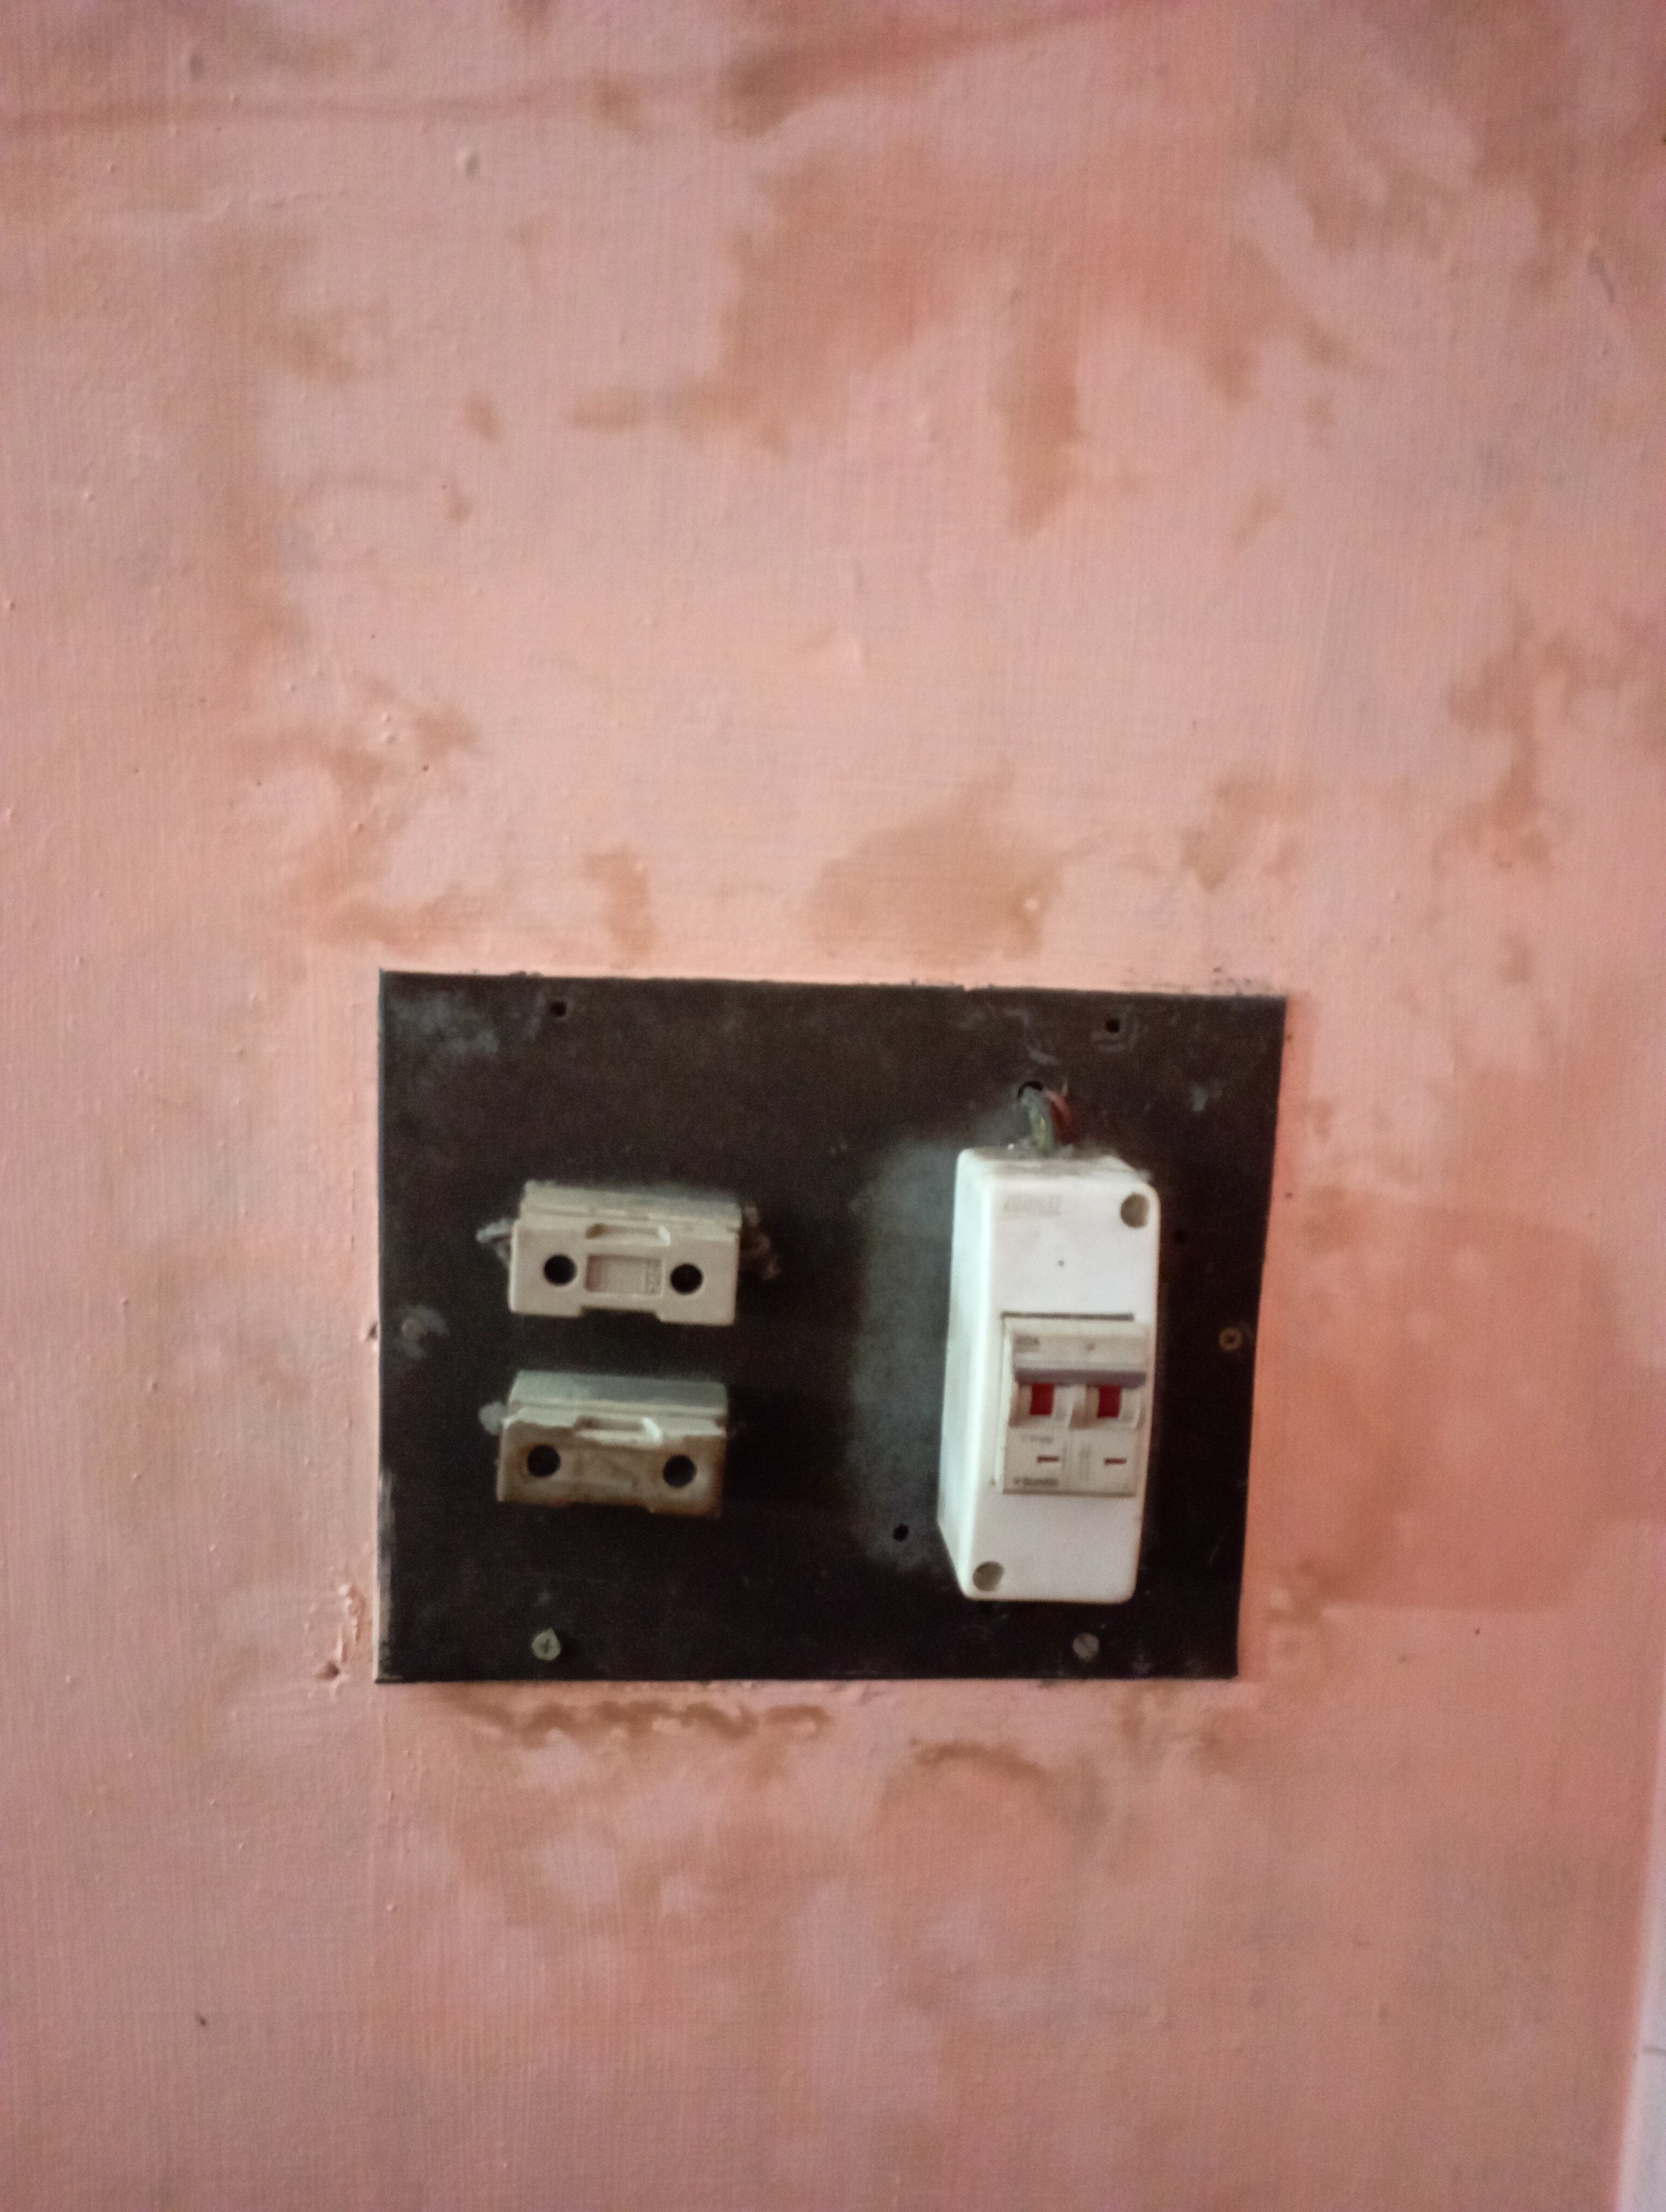ciruit_breaker: (917, 1137, 1169, 1626)
fuse: (497, 1168, 749, 1339), (459, 1371, 744, 1511)
